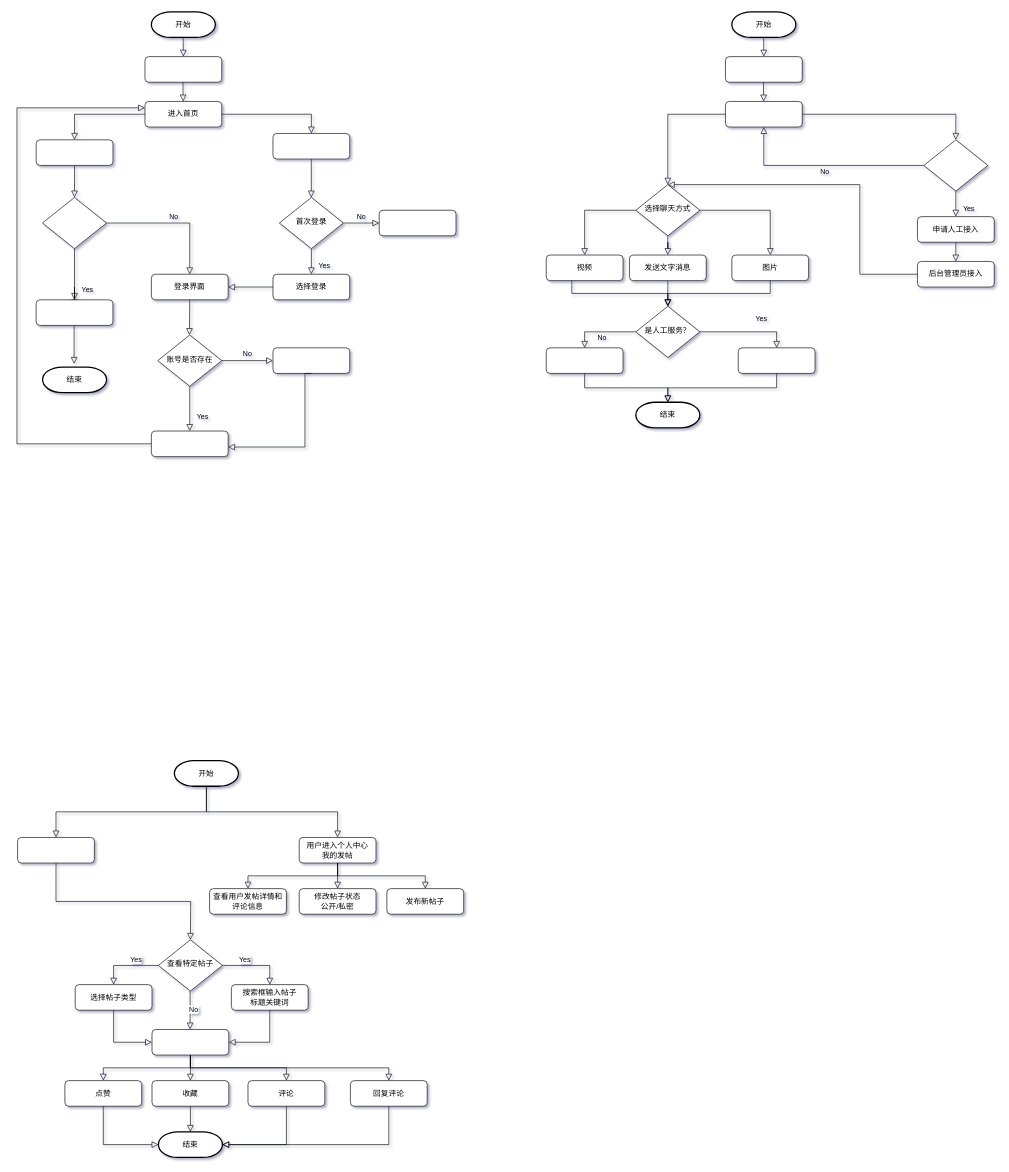
Some shapes in this 1009 by 1172 pixel diagram are drawn without their labels. Here are the shapes that lost their labels. From the top down, the box of each, then its label:
(144, 56, 222, 82): 用户打开 考研 备考小程序
(725, 56, 802, 82): 用户进入智能 客服界面
(725, 101, 802, 127): 默认是智能客服模式
(36, 139, 113, 165): 使用 小程序功能
(272, 133, 350, 159): 进入个人中心
(923, 139, 988, 191): 切换人工服务
(42, 197, 106, 249): 检查token
(379, 210, 456, 236): 查看个人信息 使用个人中心功能
(35, 299, 113, 325): 正常使用功能
(272, 347, 350, 373): 注册
(546, 347, 623, 373): 智能客服回复
(738, 347, 815, 373): 人工客服回复
(151, 430, 228, 457): 登陆成功 后端生成token
(17, 837, 94, 863): 用户进入 交流论坛
(151, 1029, 229, 1055): 查看帖子详情
